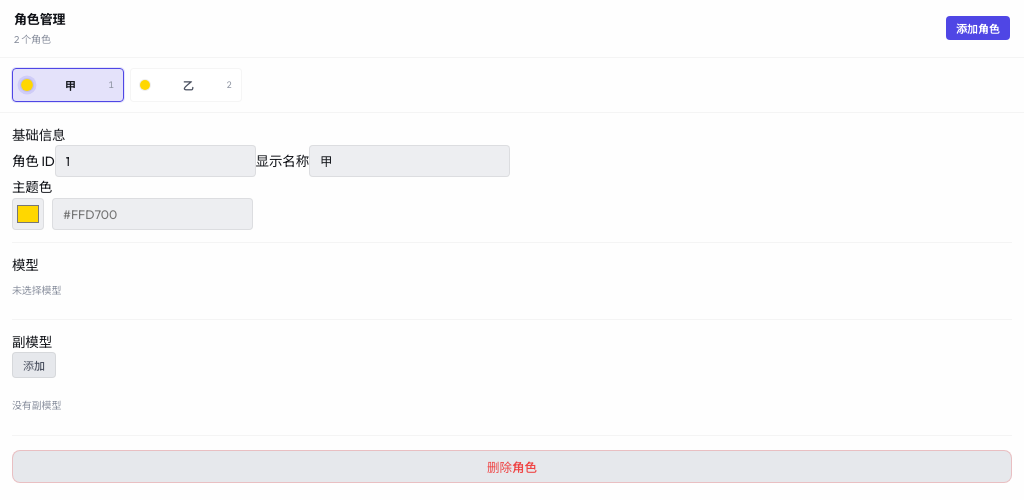
Scenario: CharacterDirectoryPanel character id input › types a new id on a multi-character scene without losing focus or switching characters
Click the option with test id "character-list-item" showing "乙 2" at x=186, y=84, box [130, 68, 242, 102]
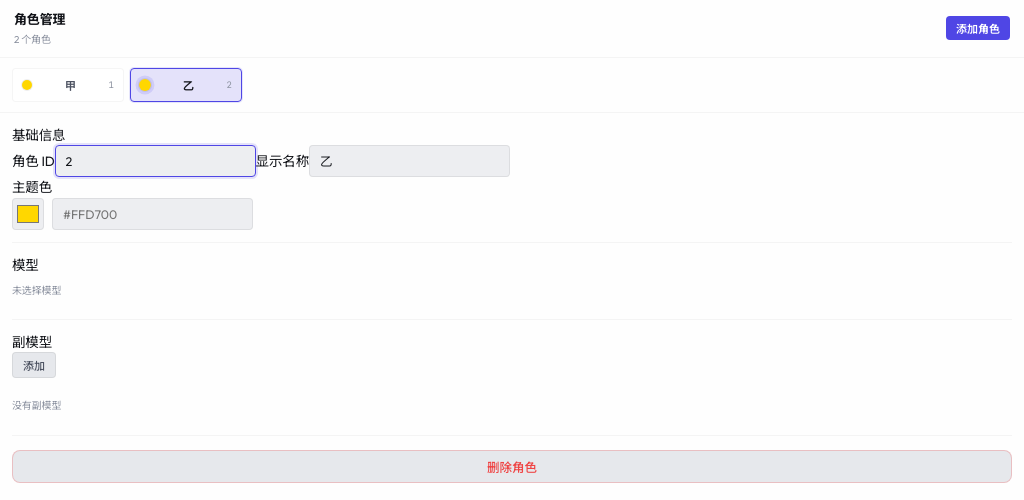
Replace the text in the field with test id "character-id-input" with "h" at x=155, y=161, box [55, 145, 256, 177]
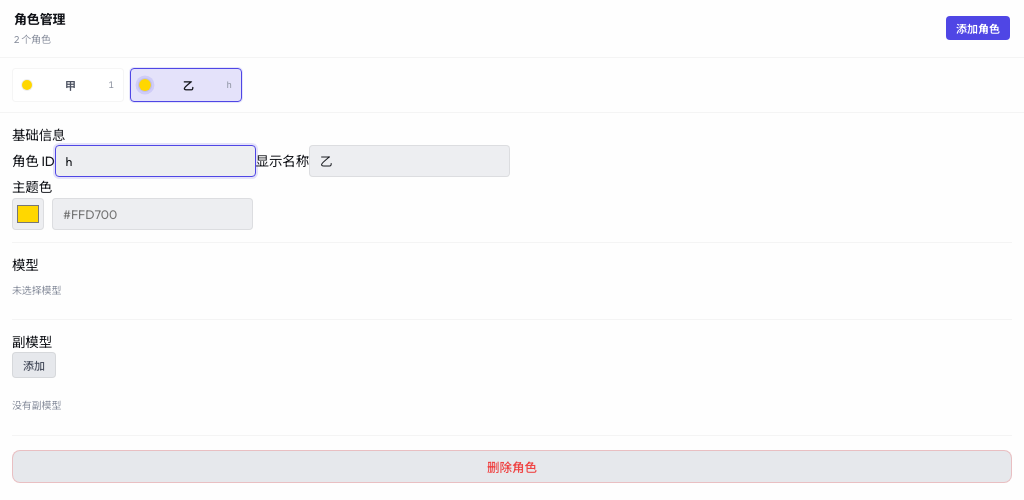
Replace the text in the field with test id "character-id-input" with "he" at x=155, y=161, box [55, 145, 256, 177]
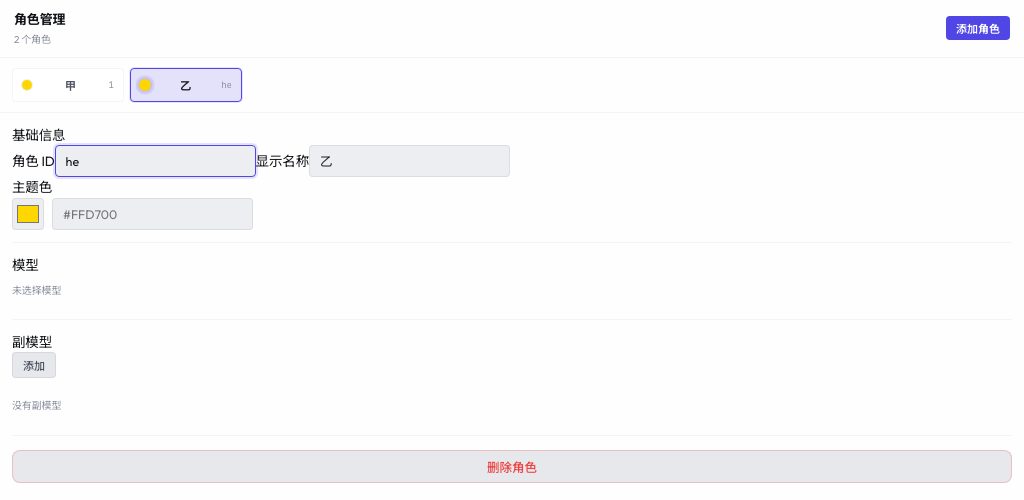
Replace the text in the field with test id "character-id-input" with "her" at x=155, y=161, box [55, 145, 256, 177]
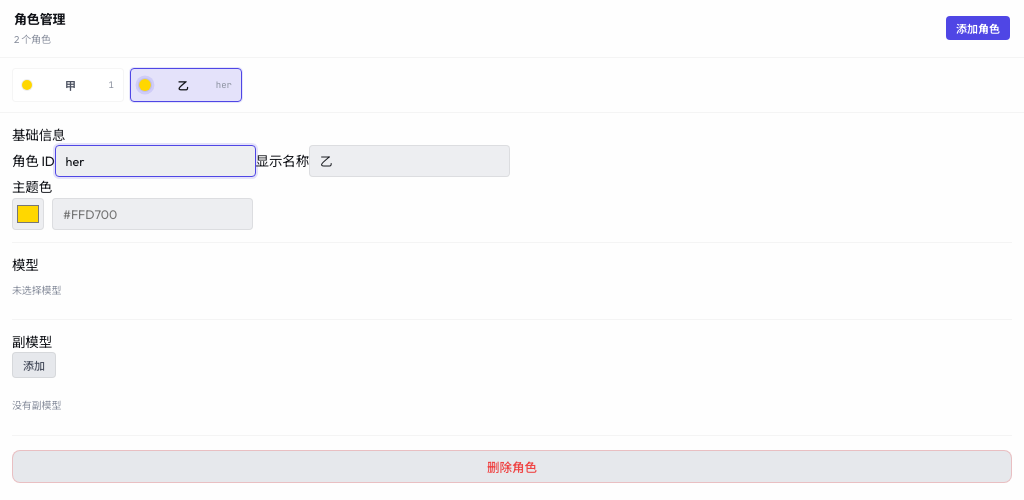
Replace the text in the field with test id "character-id-input" with "hero" at x=155, y=161, box [55, 145, 256, 177]
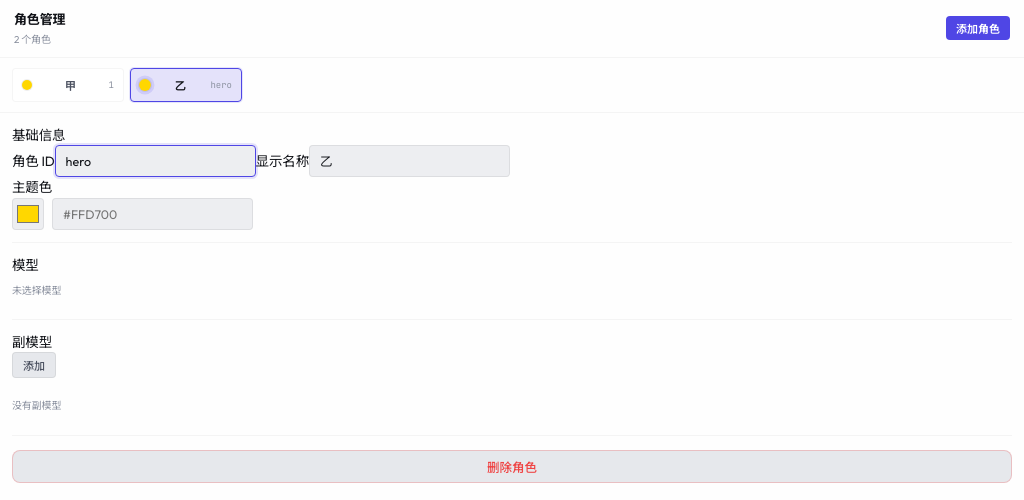
Result: the text "hero" is shown at [210, 78, 232, 90]
